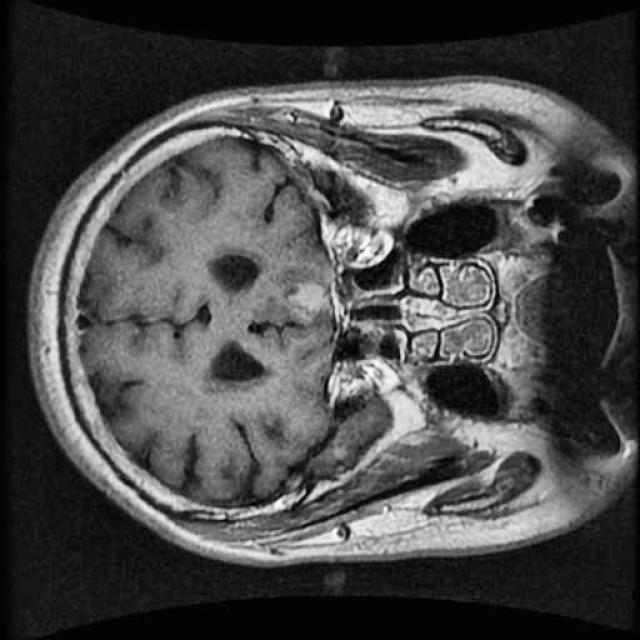Tumor: (276, 268, 346, 329)
